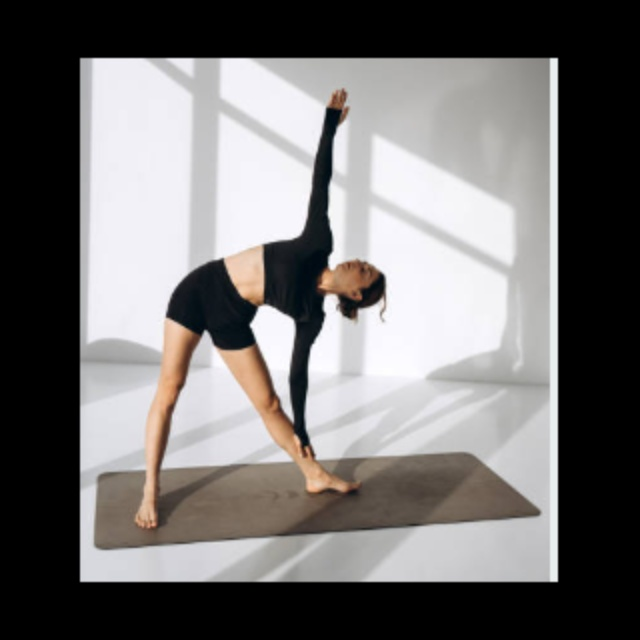Triangle_Pose: (120, 84, 398, 539)
